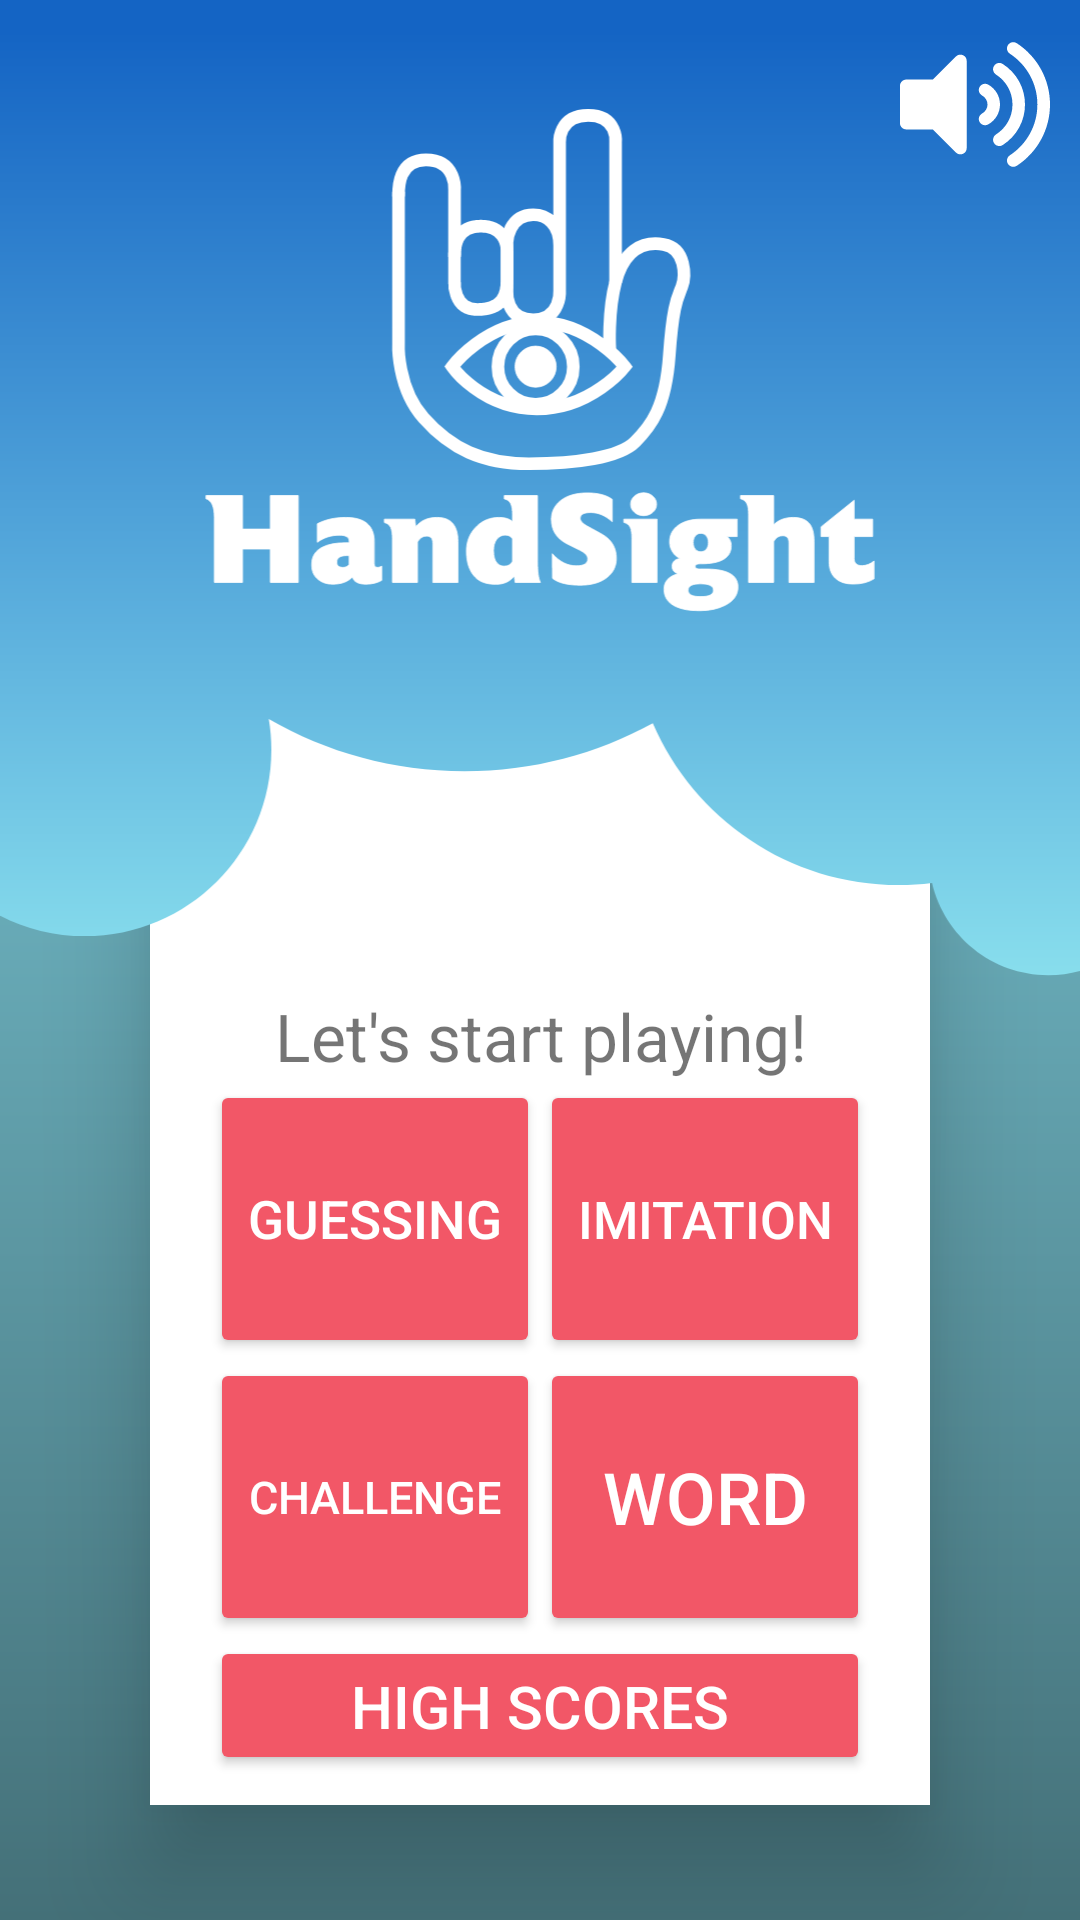

Icons on this 1080w x 1920h Android screen, each with its box as (x1, y1, x2, y2):
volume on: (900, 42, 1050, 180)
